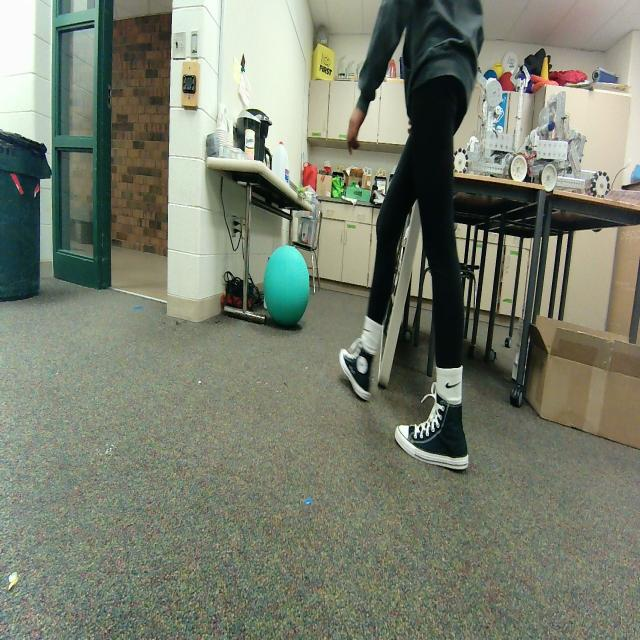algae: (264, 246, 310, 328)
